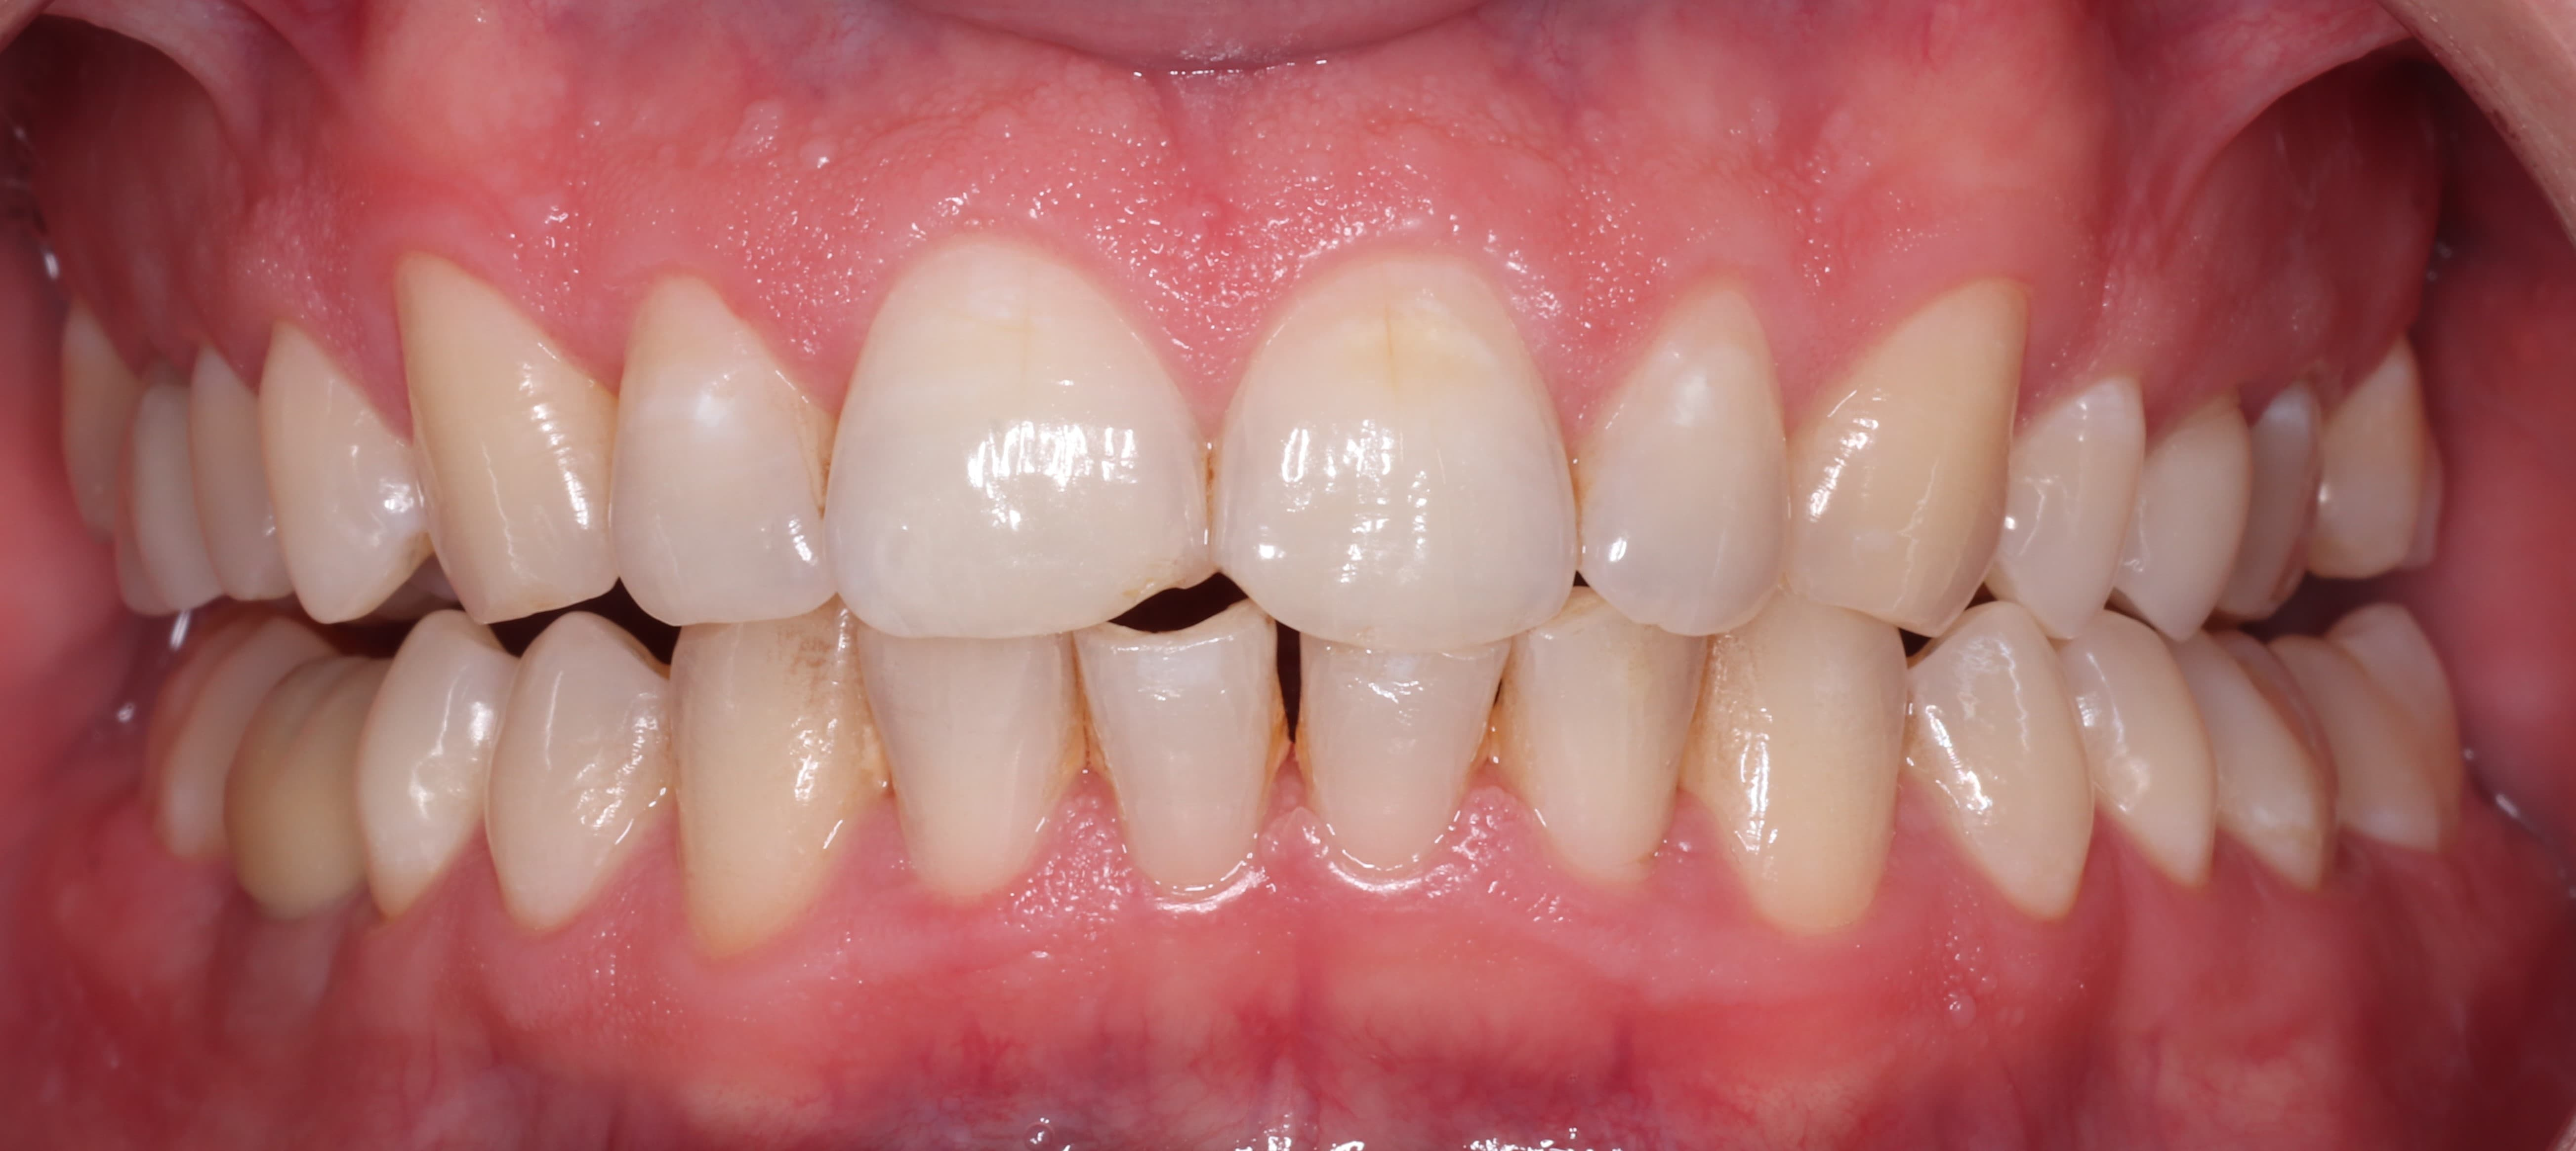LL1BC_healthy: (1912, 622, 2090, 916)
LL1M_healthy: (2177, 632, 2333, 883)
LL2BC_healthy: (2075, 627, 2215, 887)
LL2M_healthy: (2310, 637, 2436, 852)
LLCI_healthy: (1303, 647, 1503, 869)
LLC_healthy: (1705, 619, 1907, 928)
LLLI_healthy: (1510, 629, 1705, 878)
LR1BC_healthy: (485, 617, 670, 926)
LR1M_healthy: (233, 657, 365, 913)
LR2BC_healthy: (355, 624, 514, 908)
LR2M_healthy: (154, 632, 301, 852)
LRCI_healthy: (1078, 609, 1275, 893)
LRC_healthy: (670, 624, 851, 947)
LRLI_healthy: (853, 637, 1068, 896)
UL1BC_healthy: (2001, 381, 2146, 639)
UL1M_healthy: (2234, 392, 2323, 614)
UL2BC_healthy: (2113, 392, 2251, 644)
UL2M_healthy: (2328, 338, 2422, 575)
ULCI_healthy: (1204, 256, 1572, 649)
ULC_healthy: (1792, 276, 2024, 639)
ULLI_healthy: (1579, 289, 1789, 634)
UR1BC_healthy: (260, 325, 424, 619)
UR1M_healthy: (122, 386, 194, 619)
UR2BC_healthy: (186, 348, 273, 594)
UR2M_healthy: (62, 320, 122, 520)
URCI_healthy: (826, 245, 1206, 637)
URC_healthy: (396, 250, 613, 624)
URLI_healthy: (611, 274, 826, 627)
